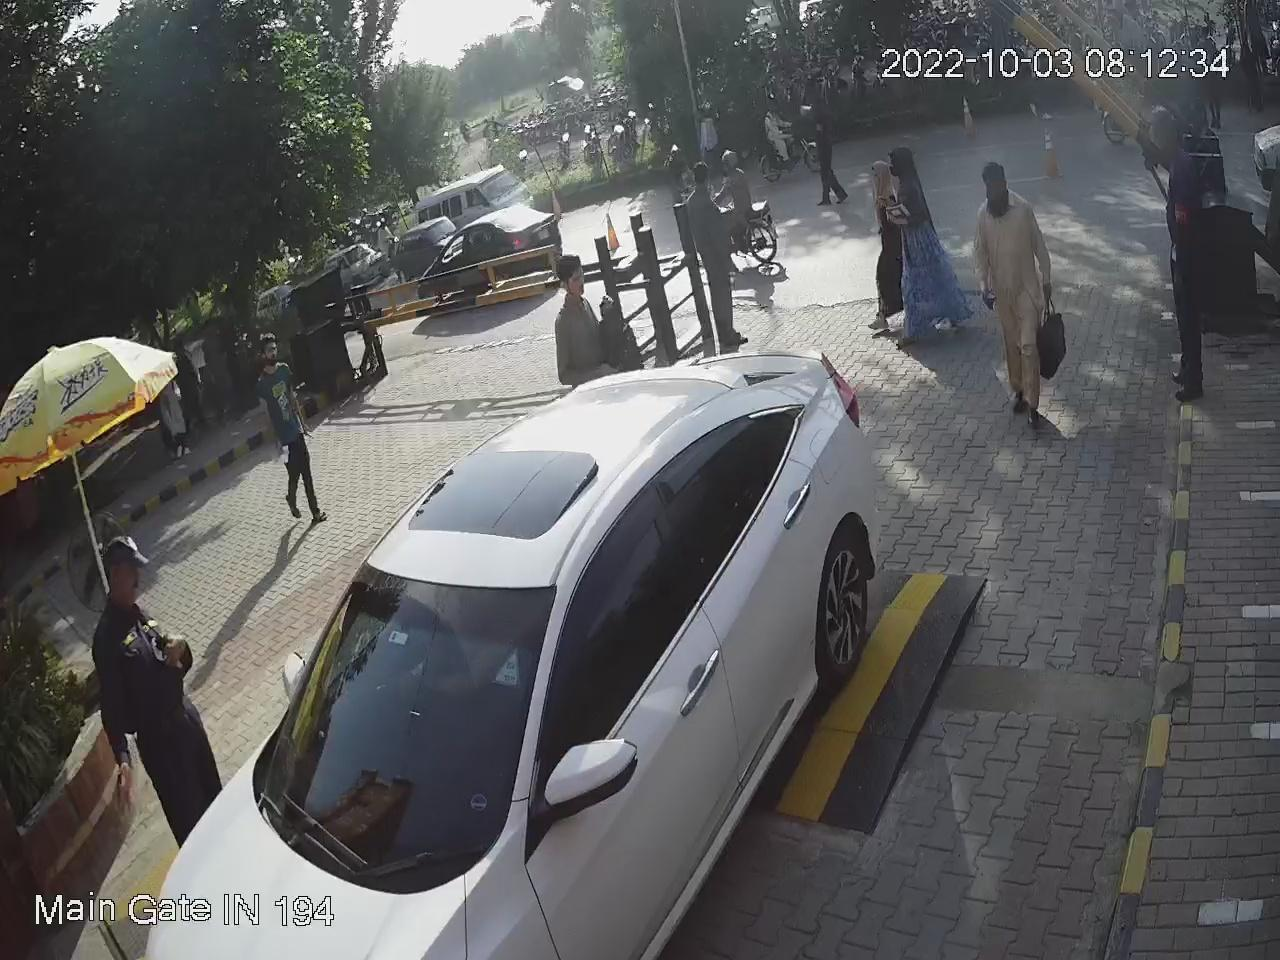windshield: (258, 560, 561, 875)
